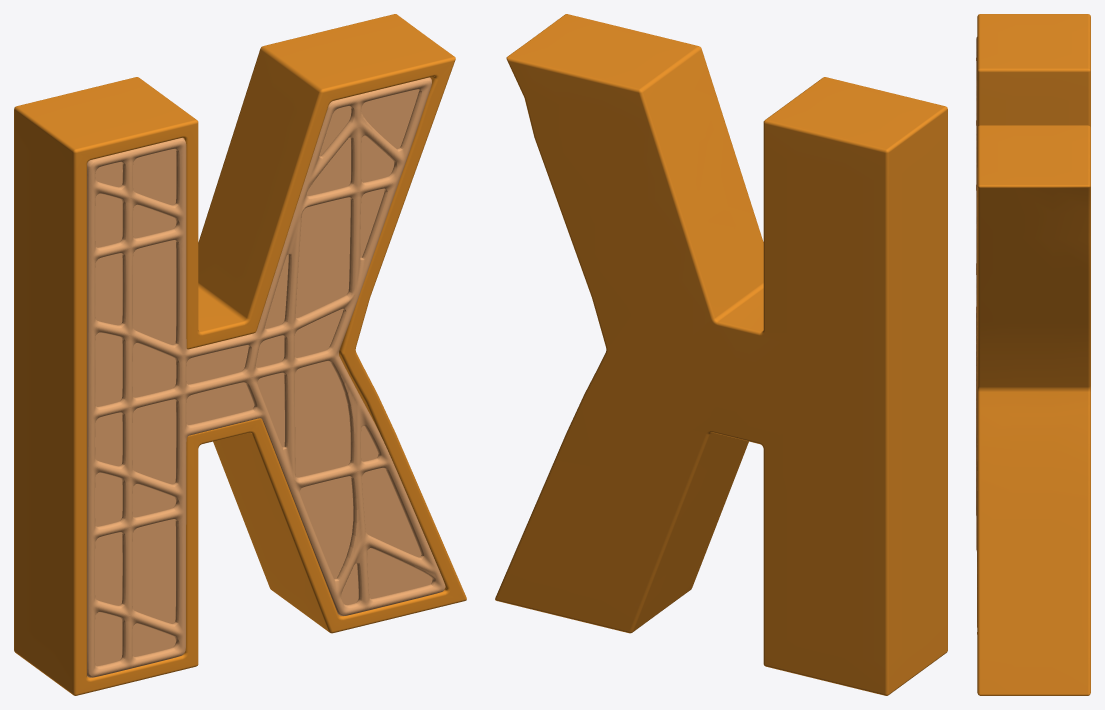
File: K_nuevo.glb
3 renders of one model, left to right at view 1: azimuth 30°, elevation 25°; view 2: azimuth 150°, elevation 25°; view 3: azimuth 270°, elevation 25°, orthographic. The views are drawn at different scales.
Visible parts, largest first — view 1: Text.011, Plane.013, Plane.037; view 2: Text.011; view 3: Text.011, Plane.037.
Part boxes in pixels (box(x1,y1,x2,y2)): Text.011: box(14, 14, 466, 695); Plane.013: box(95, 89, 432, 665); Plane.037: box(87, 77, 445, 677); Text.011: box(495, 14, 947, 695); Text.011: box(977, 14, 1090, 695); Plane.037: box(976, 37, 977, 634).
Bounding box in the file's own units: 1.84 × 2.43 × 0.5013.
